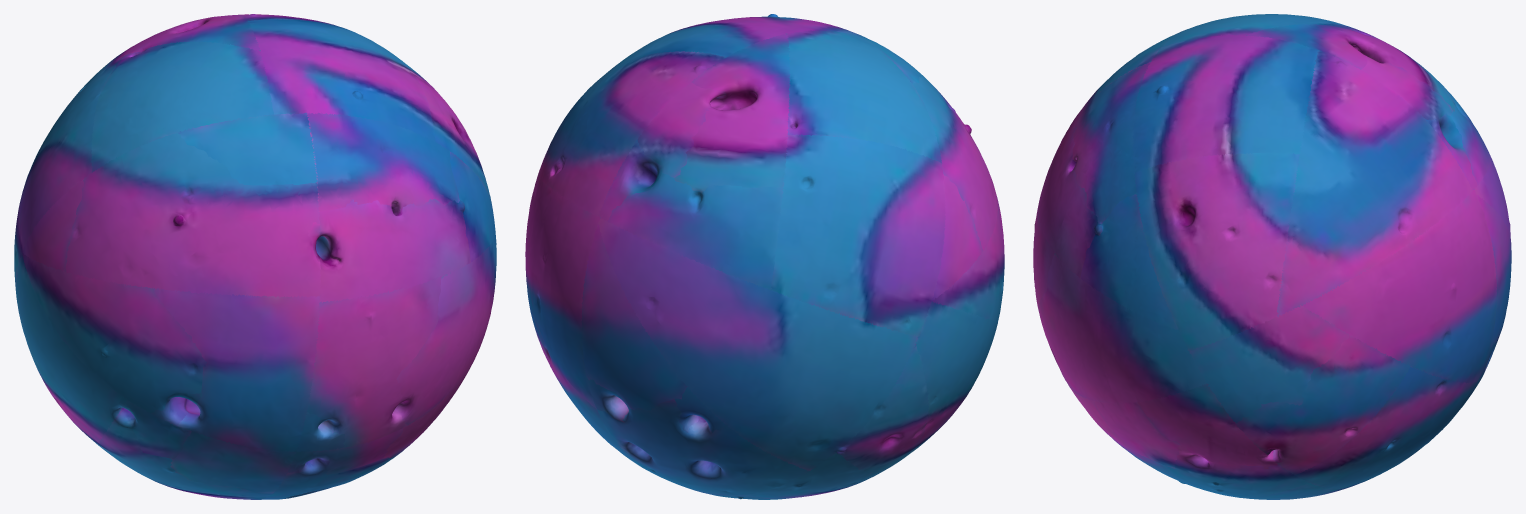
File: Color_Full_Candy.glb
The picture shows the model from 3 angles, left to right: view 1: azimuth 30°, elevation 25°; view 2: azimuth 150°, elevation 25°; view 3: azimuth 270°, elevation 25°; orthographic projection.
Parts seen in each view (by area): view 1: tripo_node_849db103-beef-4979-81ef-23a26858a80c; view 2: tripo_node_849db103-beef-4979-81ef-23a26858a80c; view 3: tripo_node_849db103-beef-4979-81ef-23a26858a80c.
Part boxes in pixels (left/top/right/bottom): tripo_node_849db103-beef-4979-81ef-23a26858a80c: left=14, top=14, right=496, bottom=499; tripo_node_849db103-beef-4979-81ef-23a26858a80c: left=525, top=14, right=1004, bottom=499; tripo_node_849db103-beef-4979-81ef-23a26858a80c: left=1033, top=14, right=1511, bottom=499.
Size of the model in its own units: 0.9985 by 1 by 0.9907.
Materials: 1 (1 with a texture image).
